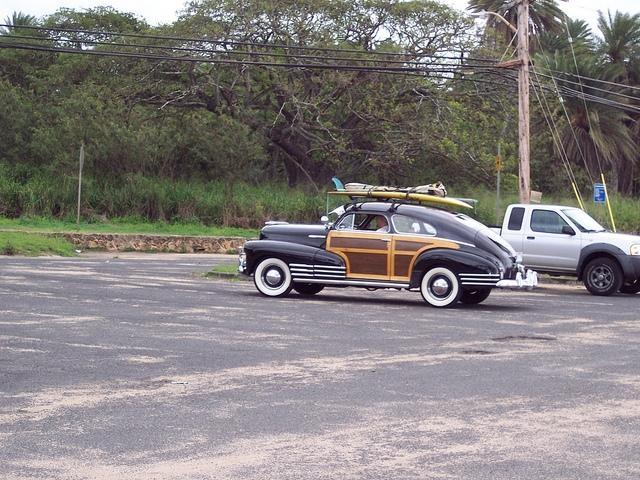car: (240, 182, 534, 307)
truck: (486, 202, 640, 302)
